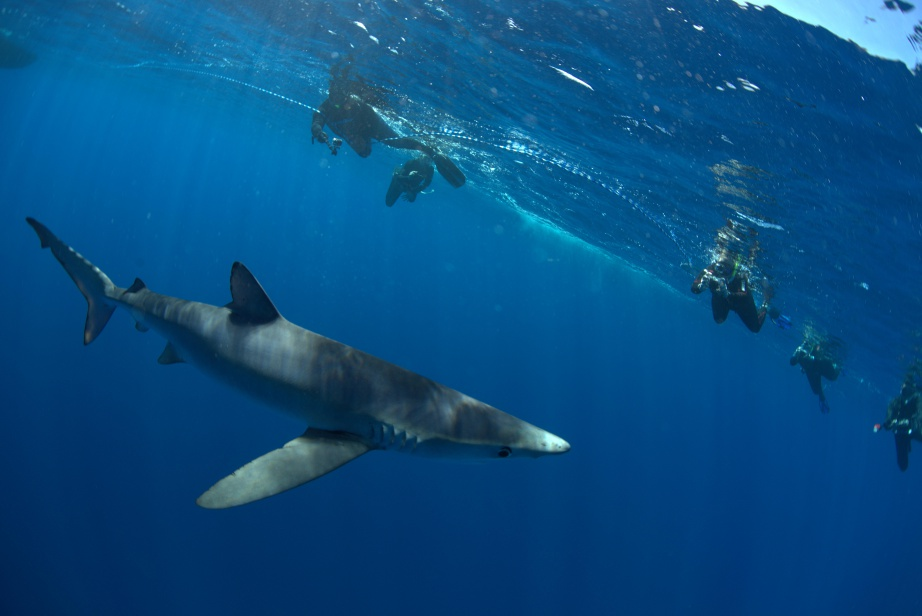Azul: (13, 197, 588, 540)
